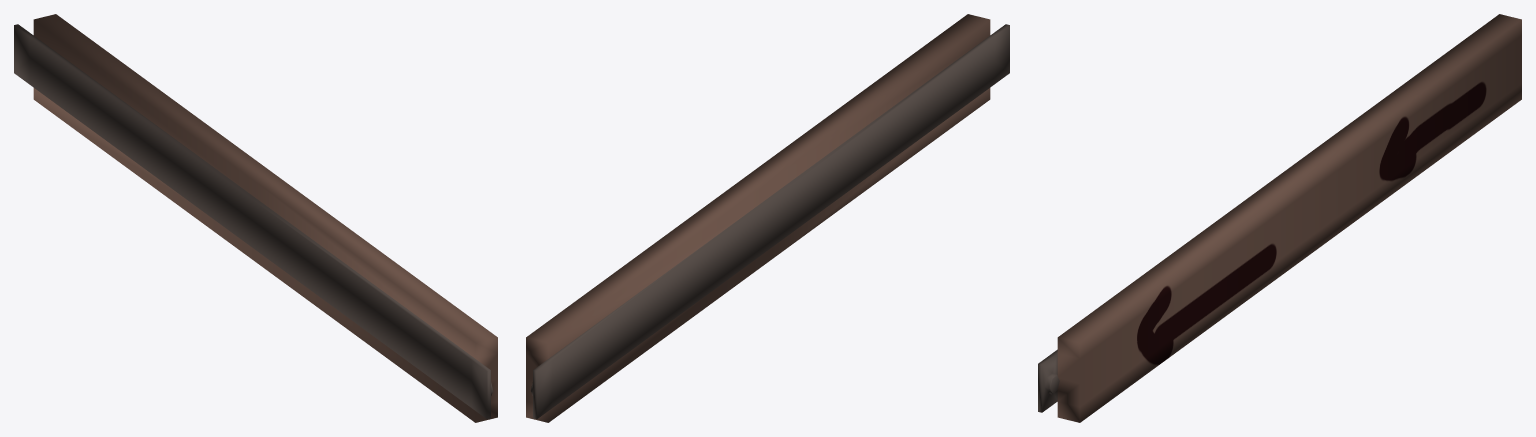
File: SM_ToolRackBaseBoard.fbx
The picture shows the model from 3 angles, left to right: view 1: azimuth 30°, elevation 25°; view 2: azimuth 150°, elevation 25°; view 3: azimuth 330°, elevation 25°; orthographic projection.
Visible parts, largest first — view 1: ToolRackBaseBoard; view 2: ToolRackBaseBoard; view 3: ToolRackBaseBoard.
Boxes of the visible parts, box(x1,y1,x2,y2) form: ToolRackBaseBoard: box(14, 14, 497, 422); ToolRackBaseBoard: box(526, 14, 1009, 422); ToolRackBaseBoard: box(1038, 14, 1521, 422).
Bounding box in the file's own units: 6.93 × 20 × 214.
